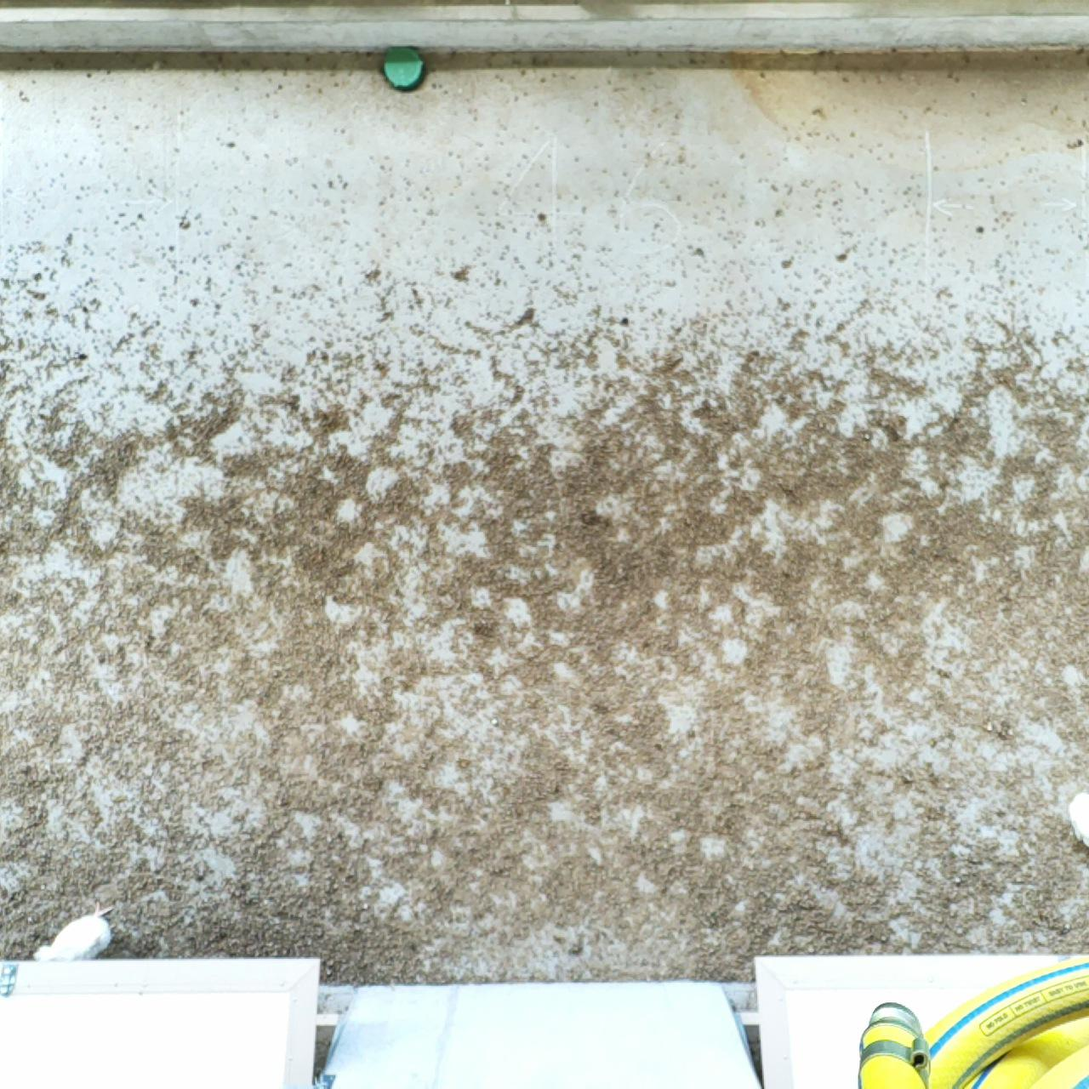chicken: (30, 899, 122, 966), (1063, 789, 1089, 850)
